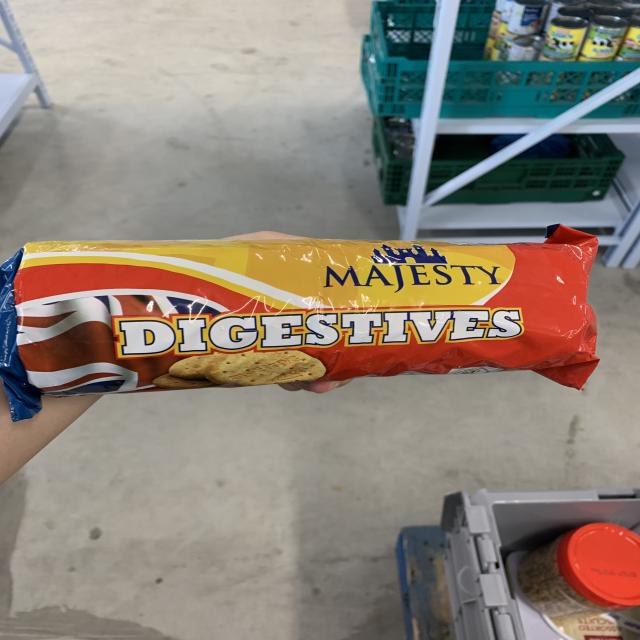object_name: (7, 243, 593, 383)
